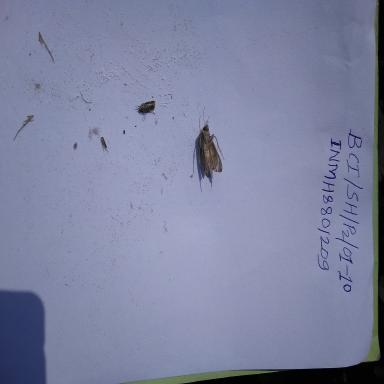pbw: (187, 116, 225, 189), (132, 95, 160, 121)
